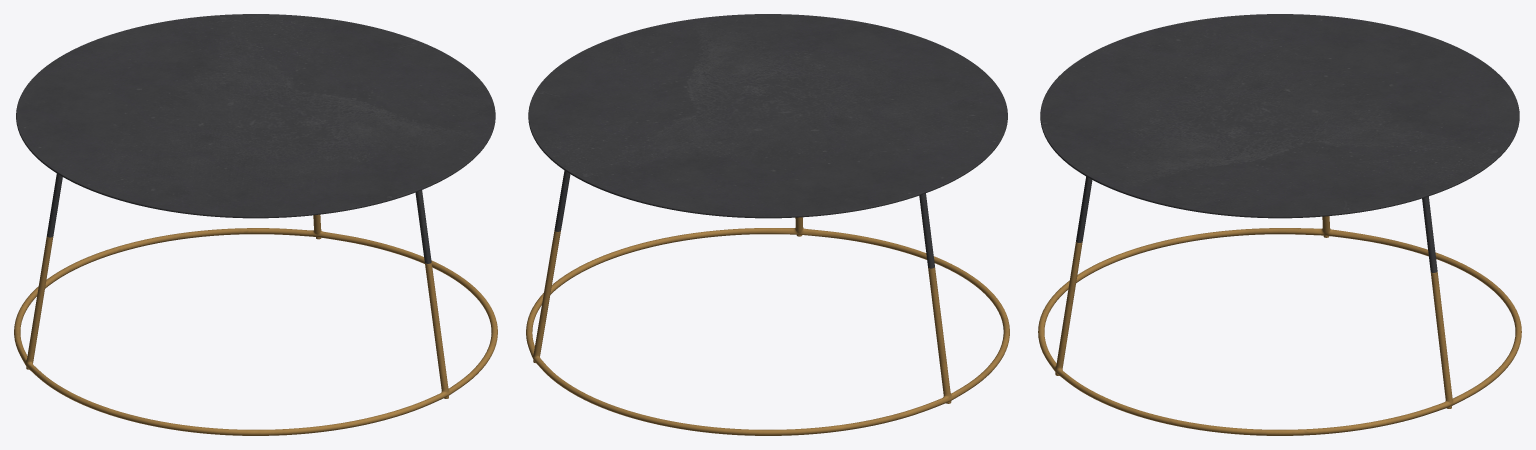
File: table.glb
The picture shows the model from 3 angles, left to right: view 1: azimuth 30°, elevation 25°; view 2: azimuth 150°, elevation 25°; view 3: azimuth 270°, elevation 25°; orthographic projection.
Parts seen in each view (by area): view 1: CoffeeTableNimbusGoldReplica001; view 2: CoffeeTableNimbusGoldReplica001; view 3: CoffeeTableNimbusGoldReplica001.
Part boxes in pixels (x1=…): CoffeeTableNimbusGoldReplica001: x1=14, y1=14, x2=497, y2=435; CoffeeTableNimbusGoldReplica001: x1=526, y1=14, x2=1009, y2=435; CoffeeTableNimbusGoldReplica001: x1=1038, y1=14, x2=1521, y2=435.
Size of the model in its own units: 0.7184 by 0.3621 by 0.7183.
1 material, 1 textured.
